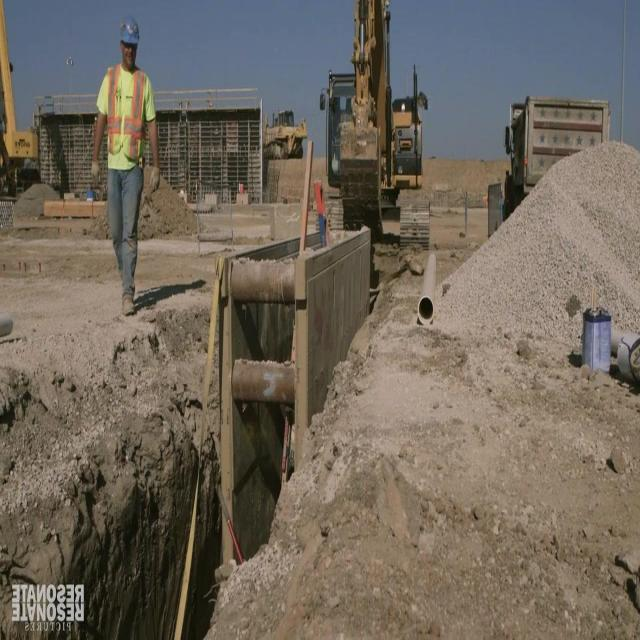reflective_jacket: (89, 58, 162, 185)
safety_helmet: (113, 9, 147, 55)
